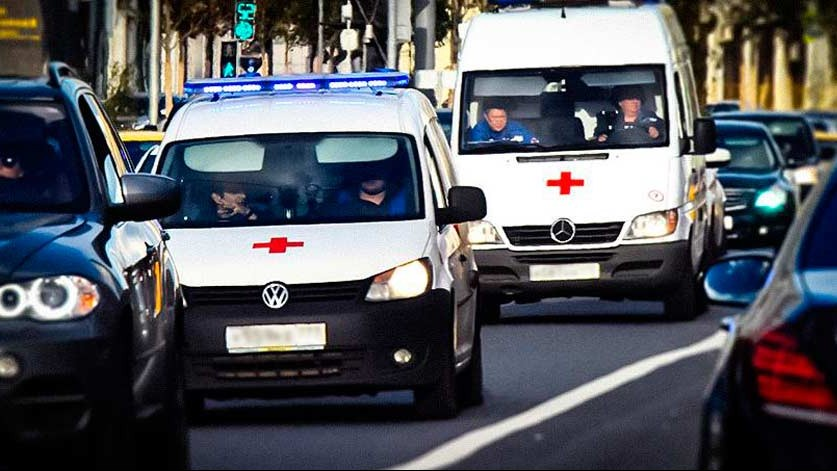special: (124, 71, 482, 412), (455, 2, 715, 319)
